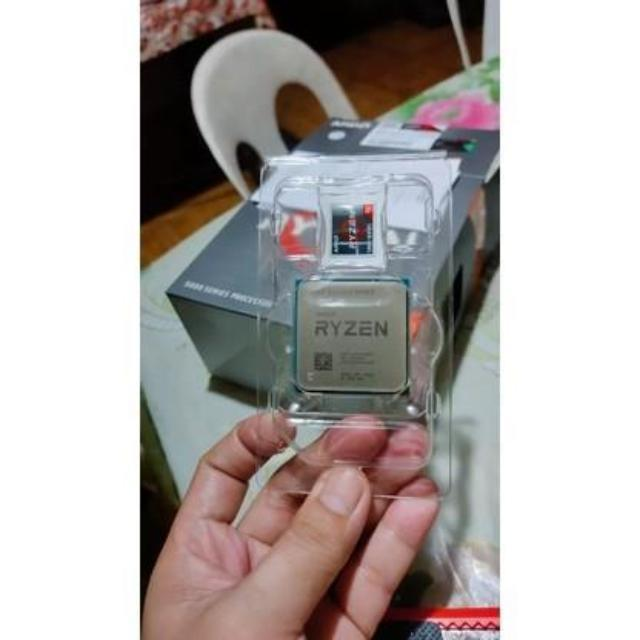CPU: (300, 282, 409, 400)
